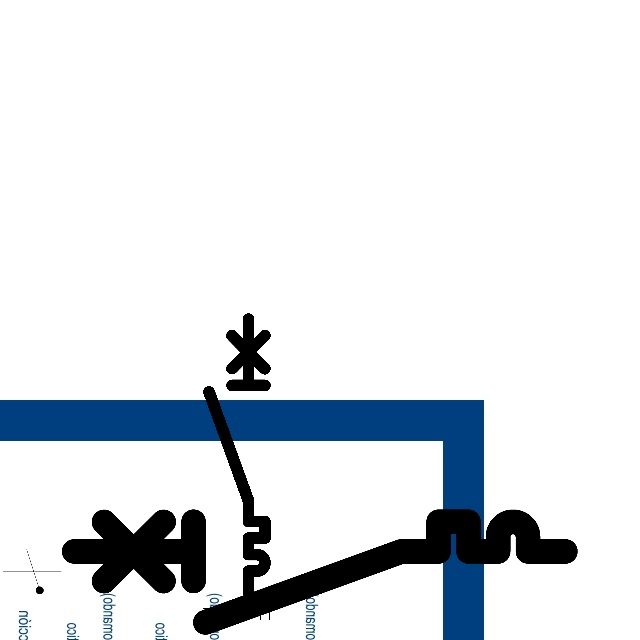interruptor_termomagnetico: (61, 509, 578, 635), (202, 312, 272, 599)
